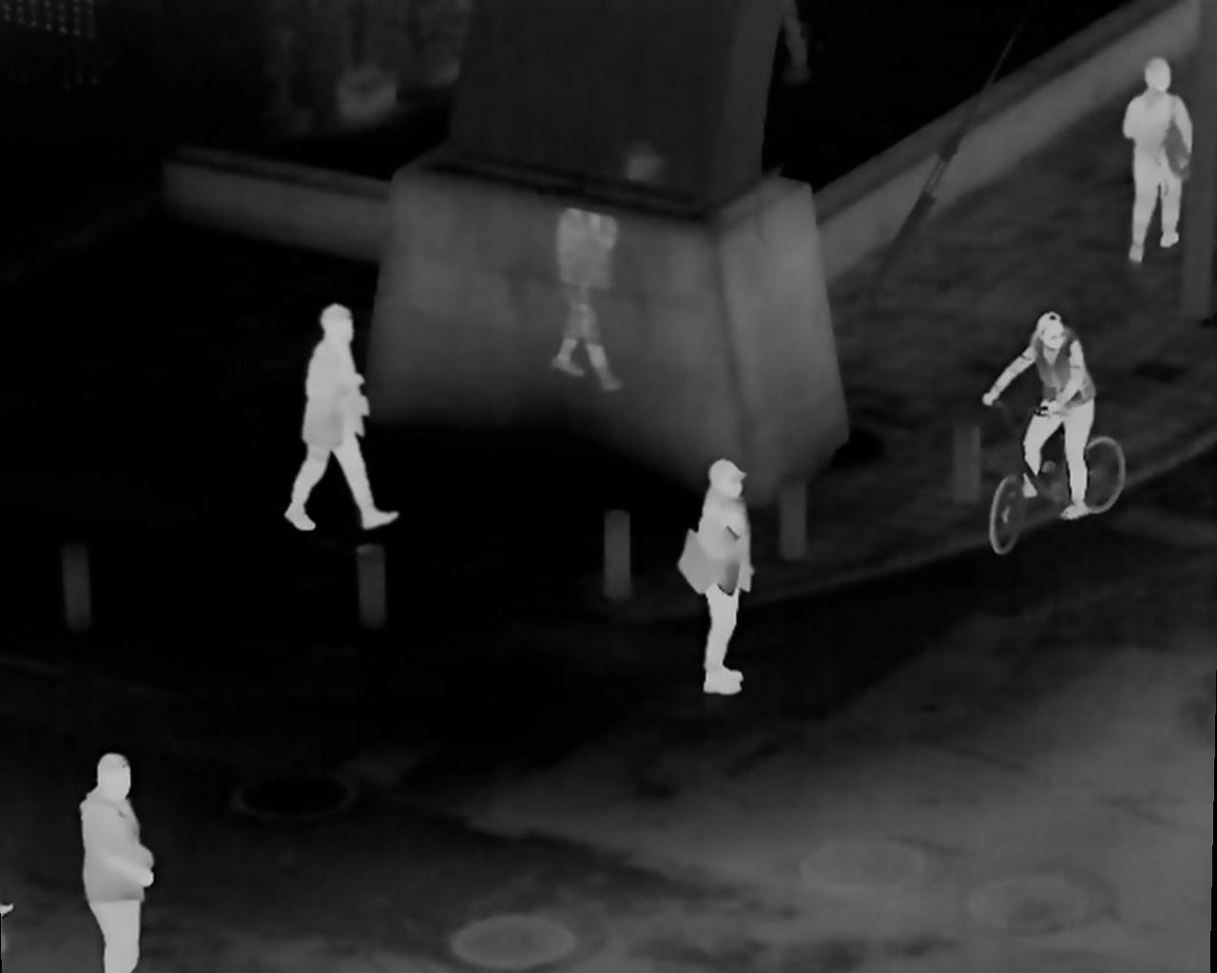person: (290, 293, 397, 541), (63, 759, 175, 973), (678, 455, 763, 707), (995, 305, 1091, 521), (1116, 55, 1205, 258)
